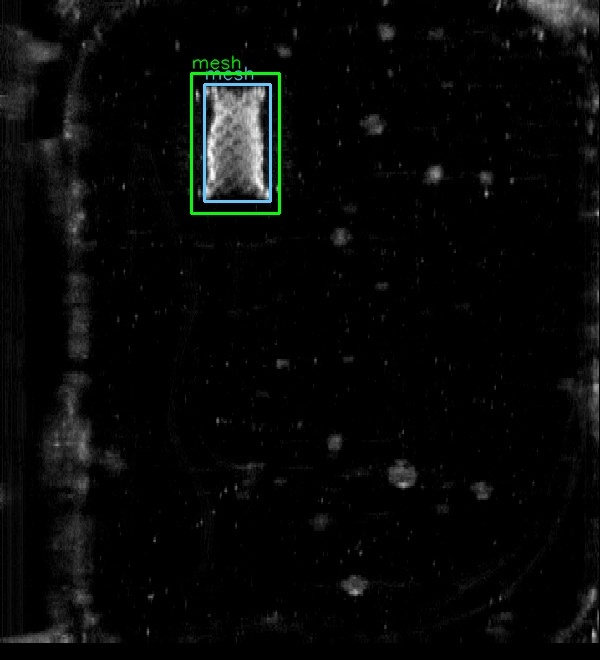mesh: (204, 84, 270, 201)
